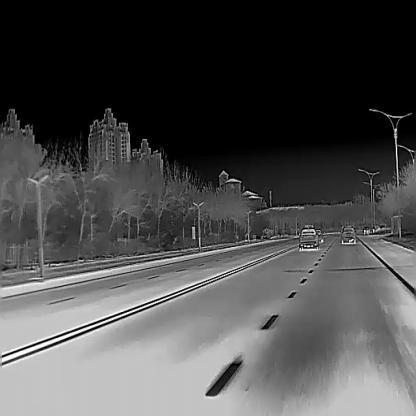car: (299, 227, 320, 250), (340, 225, 356, 242), (315, 228, 323, 243), (362, 226, 369, 234)
